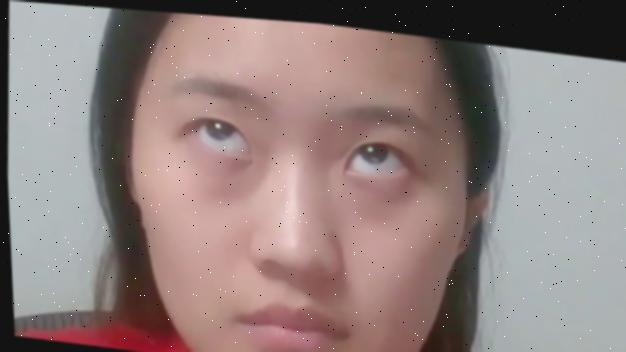eye: (355, 127, 388, 161), (202, 107, 235, 139)
iris: (344, 133, 406, 175), (192, 112, 250, 154)
